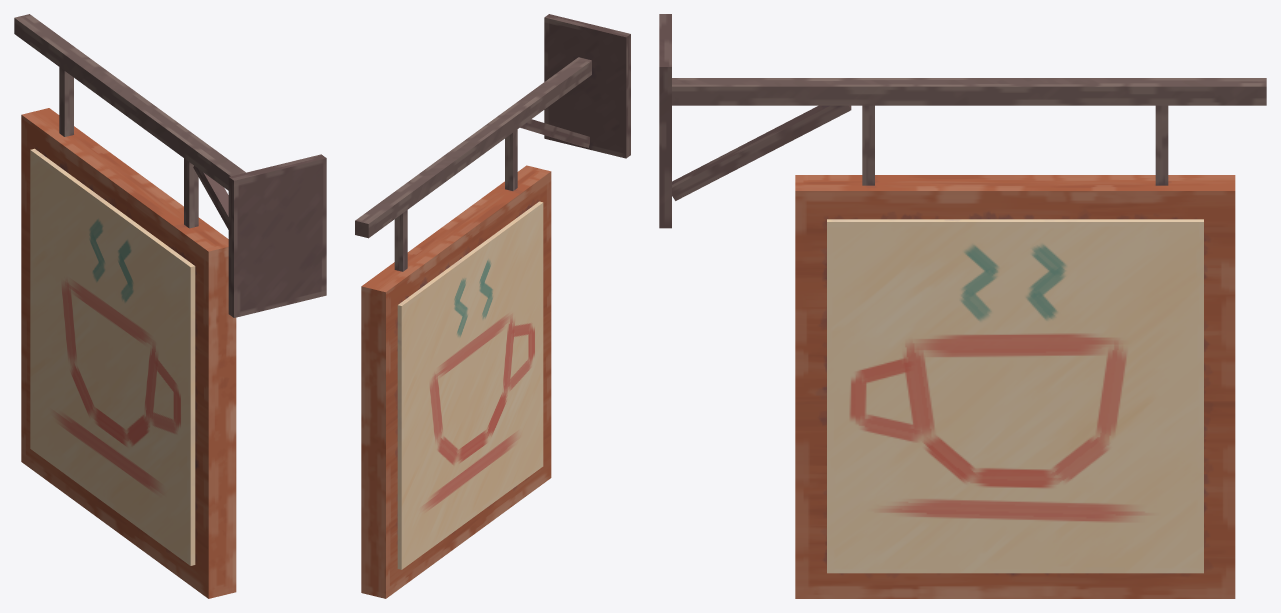
The model's file is sign_tea_low.fbx.
3 renders of one model, left to right at view 1: azimuth 30°, elevation 25°; view 2: azimuth 150°, elevation 25°; view 3: azimuth 270°, elevation 25°, orthographic. The views are drawn at different scales.
Visible parts, largest first — view 1: sign_tea; view 2: sign_tea; view 3: sign_tea.
Part boxes in pixels (box(x1,y1,x2,y2)): sign_tea: box(14, 14, 326, 598); sign_tea: box(355, 14, 630, 598); sign_tea: box(659, 14, 1266, 598).
Bounding box in the file's own units: 0.6 × 2.9 × 2.9.
1 material, 1 textured.
